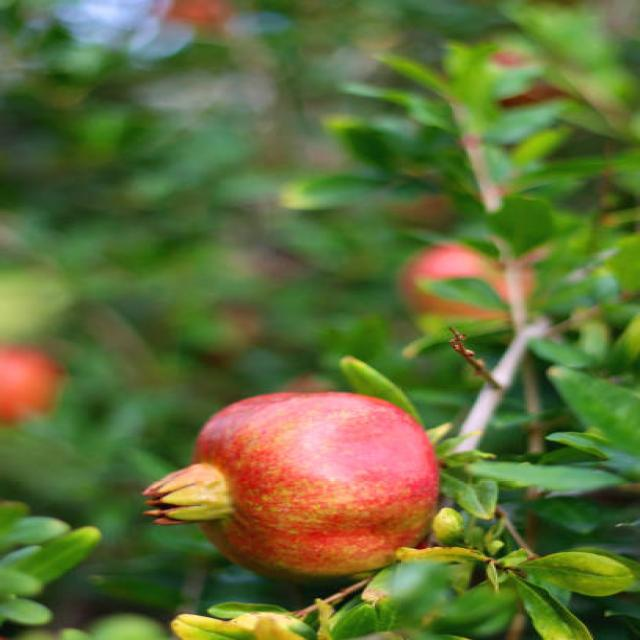Ripe: (136, 392, 444, 591)
